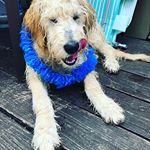puppy: (19, 1, 131, 150)
